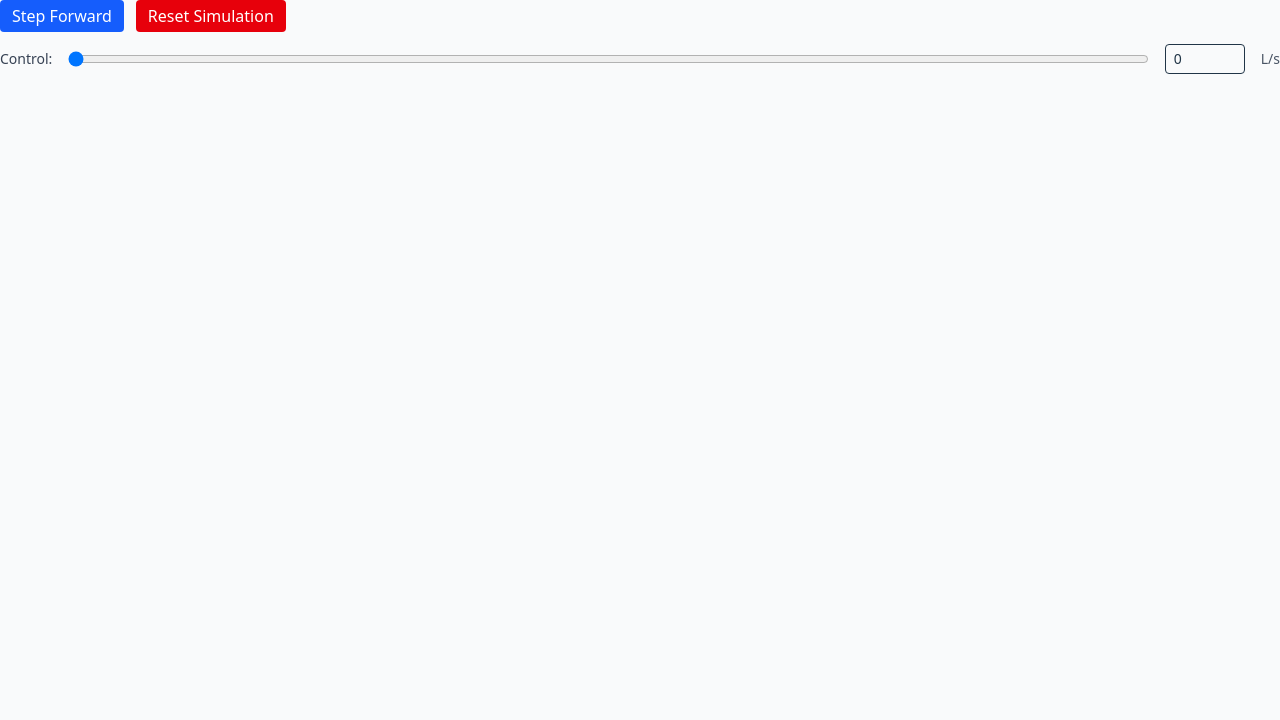
Test case: SimulationControls › Reset Functionality › displays error message when reset fails
Click the button "Reset Simulation" at (211, 16), box [136,0,286,32]
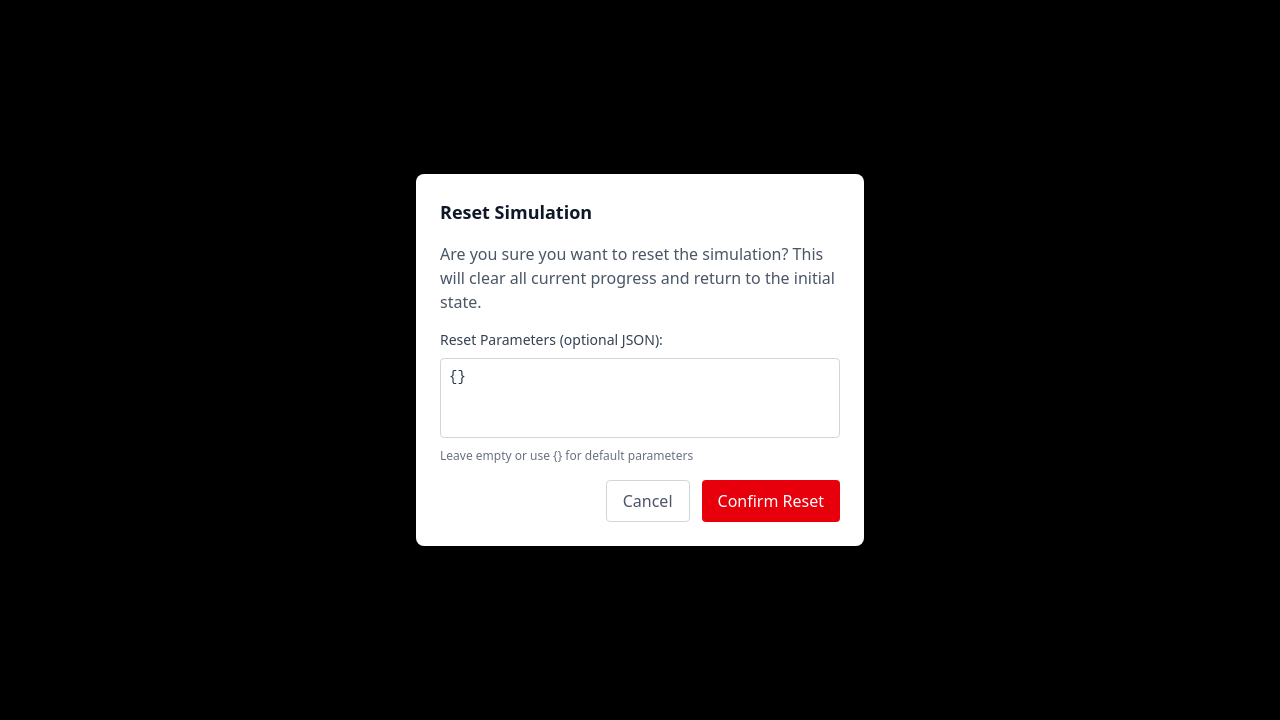
Click the button "Confirm Reset" at (771, 501), box [702,480,840,522]
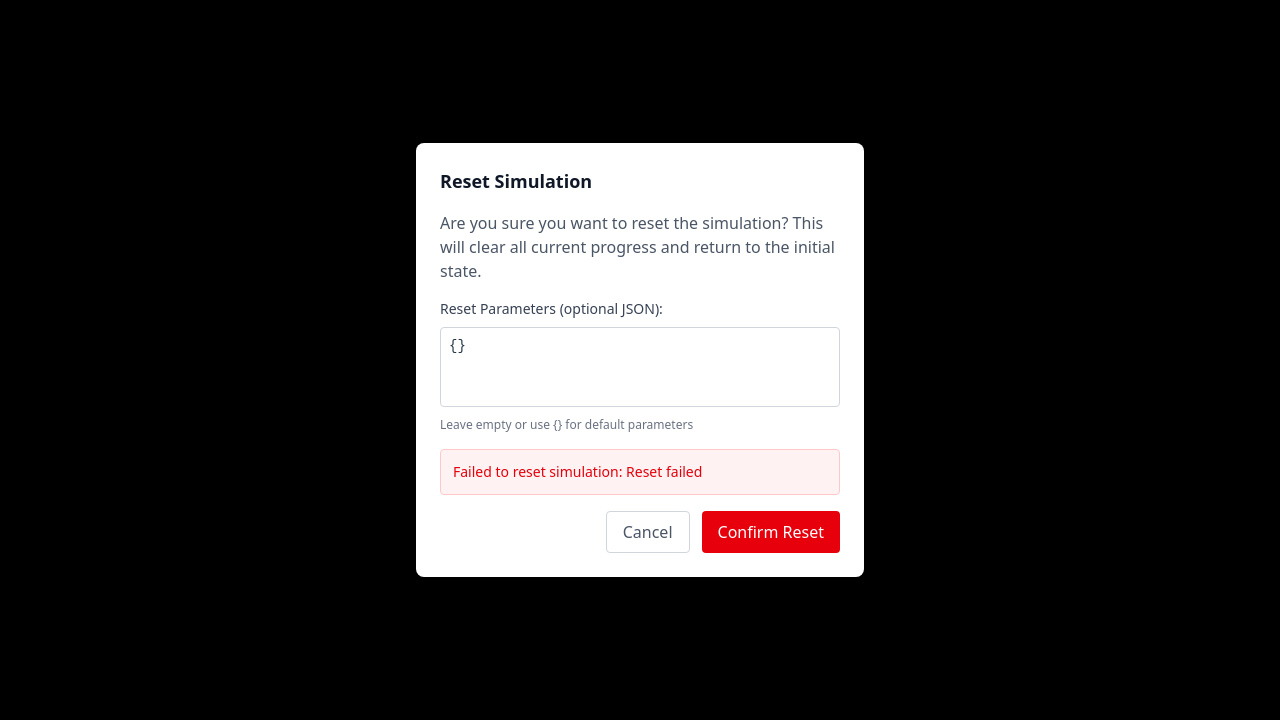
Expected: the text "Are you sure you want to reset" is shown, [440,212,835,282]
Expected: the text "Failed to reset simulation: Reset failed" is shown, [440,449,840,495]
